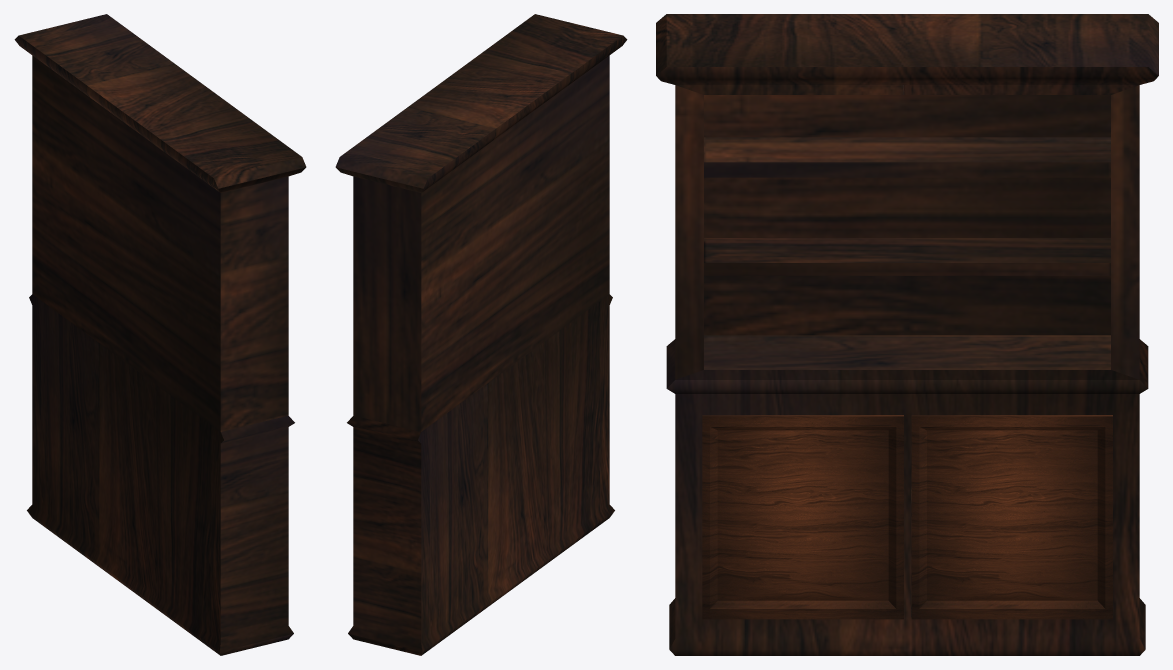
The model's file is LiquorCabinetFBX.fbx.
The picture shows the model from 3 angles, left to right: view 1: azimuth 30°, elevation 25°; view 2: azimuth 150°, elevation 25°; view 3: azimuth 270°, elevation 25°; orthographic projection. The views are drawn at different scales.
Visible parts, largest first — view 1: LiquorCabinetBase; view 2: LiquorCabinetBase; view 3: LiquorCabinetBase, LiquorCabinetDoor1, LiquorCabinetDoor2.
Boxes of the visible parts, x1,y1,x2,y2 form: LiquorCabinetBase: (14, 14, 306, 655); LiquorCabinetBase: (335, 14, 627, 655); LiquorCabinetBase: (656, 14, 1158, 655); LiquorCabinetDoor1: (702, 415, 903, 619); LiquorCabinetDoor2: (911, 415, 1112, 619).
Size of the model in its own units: 2.16 by 11.31 by 8.66.
